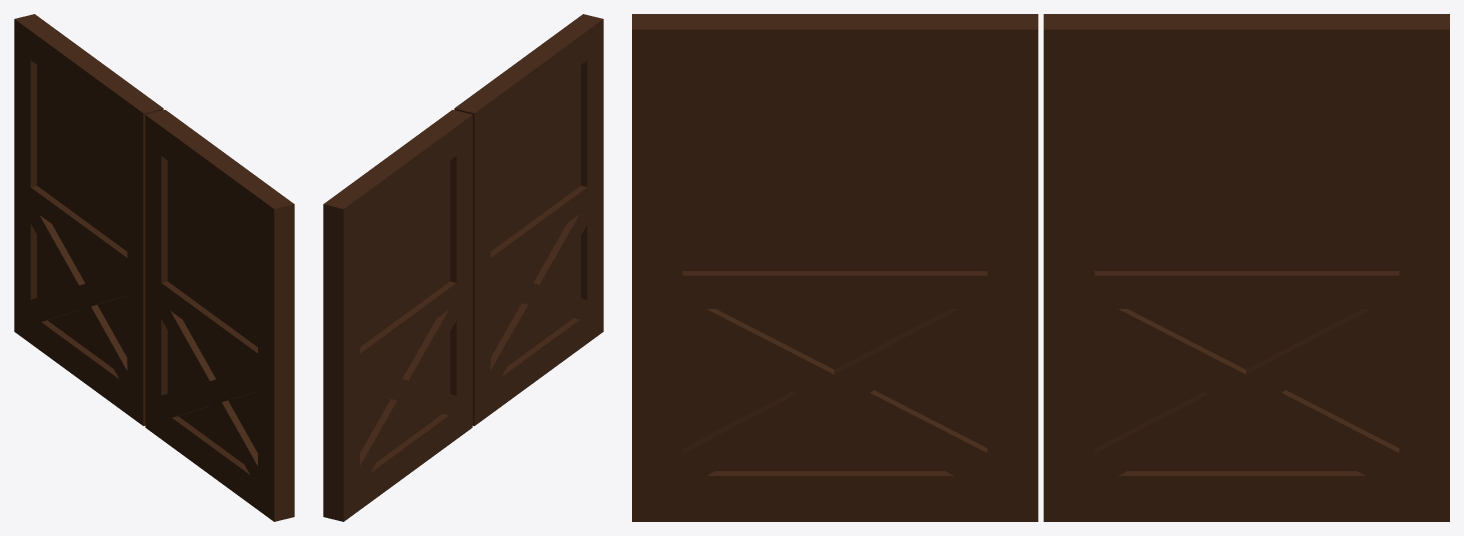
Rendered from BarnDoor 1.fbx.
3 renders of one model, left to right at view 1: azimuth 30°, elevation 25°; view 2: azimuth 150°, elevation 25°; view 3: azimuth 270°, elevation 25°, orthographic. The views are drawn at different scales.
Visible parts, largest first — view 1: Cube, Cube.001; view 2: Cube.001, Cube; view 3: Cube, Cube.001.
Part boxes in pixels (bbox=[...]): Cube: bbox=[145, 110, 294, 521]; Cube.001: bbox=[14, 14, 163, 425]; Cube.001: bbox=[323, 110, 472, 521]; Cube: bbox=[454, 14, 603, 425]; Cube: bbox=[632, 14, 1038, 521]; Cube.001: bbox=[1043, 14, 1449, 521].
Size of the model in its own units: 42.02 by 618 by 930.
